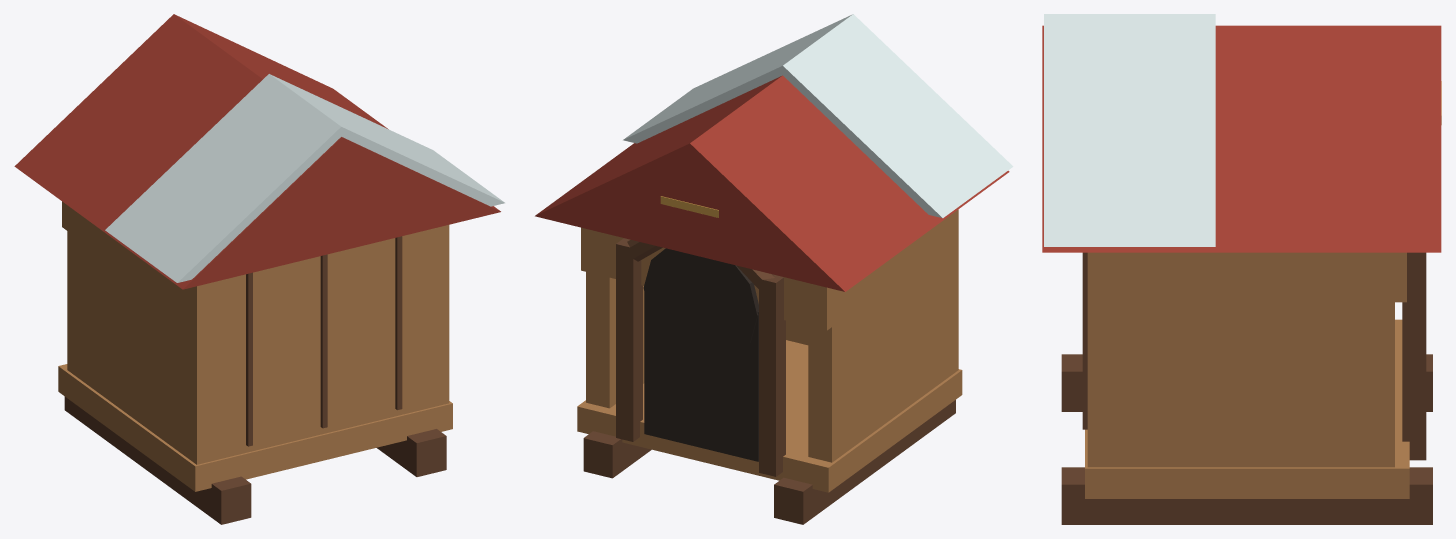
The model's file is doghouse.glb.
3 views of the same model, side by side, from view 1: azimuth 30°, elevation 25°; view 2: azimuth 150°, elevation 25°; view 3: azimuth 270°, elevation 25° (orthographic). The views are drawn at different scales.
Visible parts, largest first — view 1: RedRoof, BackWall, SnowCap, LeftWall, DoghouseFloor, Runner-0.72, Runner0.72, BackPlankSeam0, BackPlankSeam0.55, BackPlankSeam-0.55; view 2: RedRoof, SnowCap, LeftWall, DoorDark, DoghouseFloor, DoorArchDark, DoorPost-0.54, DoorPost0.54, FrontLintel, RightWall, Runner-0.72, BackWall (+1 smaller); view 3: RightWall, RedRoof, SnowCap, DoghouseFloor, Runner0.72, BackWall, DoorPost0.54, Runner-0.72, FrontLintel, BackPlankSeam0.55.
Part boxes in pixels (x1,y1,x2,y2): RedRoof: (14, 14, 500, 289); BackWall: (184, 225, 449, 464); SnowCap: (105, 74, 504, 282); LeftWall: (67, 211, 188, 458); DoghouseFloor: (58, 364, 452, 491); Runner-0.72: (64, 396, 251, 524); Runner0.72: (376, 429, 446, 476); BackPlankSeam0: (320, 254, 327, 428); BackPlankSeam0.55: (395, 236, 402, 410); BackPlankSeam-0.55: (246, 272, 252, 446); RedRoof: (535, 75, 1009, 291); SnowCap: (623, 14, 1013, 218); LeftWall: (808, 218, 946, 462); DoorDark: (644, 292, 758, 461); DoghouseFloor: (577, 340, 962, 492); DoorArchDark: (643, 248, 758, 361); DoorPost-0.54: (759, 274, 785, 476); DoorPost0.54: (616, 238, 642, 441); FrontLintel: (581, 227, 839, 330); RightWall: (586, 272, 644, 408); Runner-0.72: (774, 400, 955, 524); BackWall: (786, 209, 958, 378); RightWall: (1107, 252, 1394, 467); RedRoof: (1042, 25, 1441, 252); SnowCap: (1044, 14, 1215, 246); DoghouseFloor: (1085, 319, 1409, 498); Runner0.72: (1061, 467, 1432, 524); BackWall: (1087, 252, 1117, 467); DoorPost0.54: (1402, 252, 1426, 460); Runner-0.72: (1061, 354, 1432, 411); FrontLintel: (1377, 252, 1406, 302); BackPlankSeam0.55: (1082, 252, 1087, 429).
Bounding box in the file's own units: 2.42 × 2.65 × 2.15.
